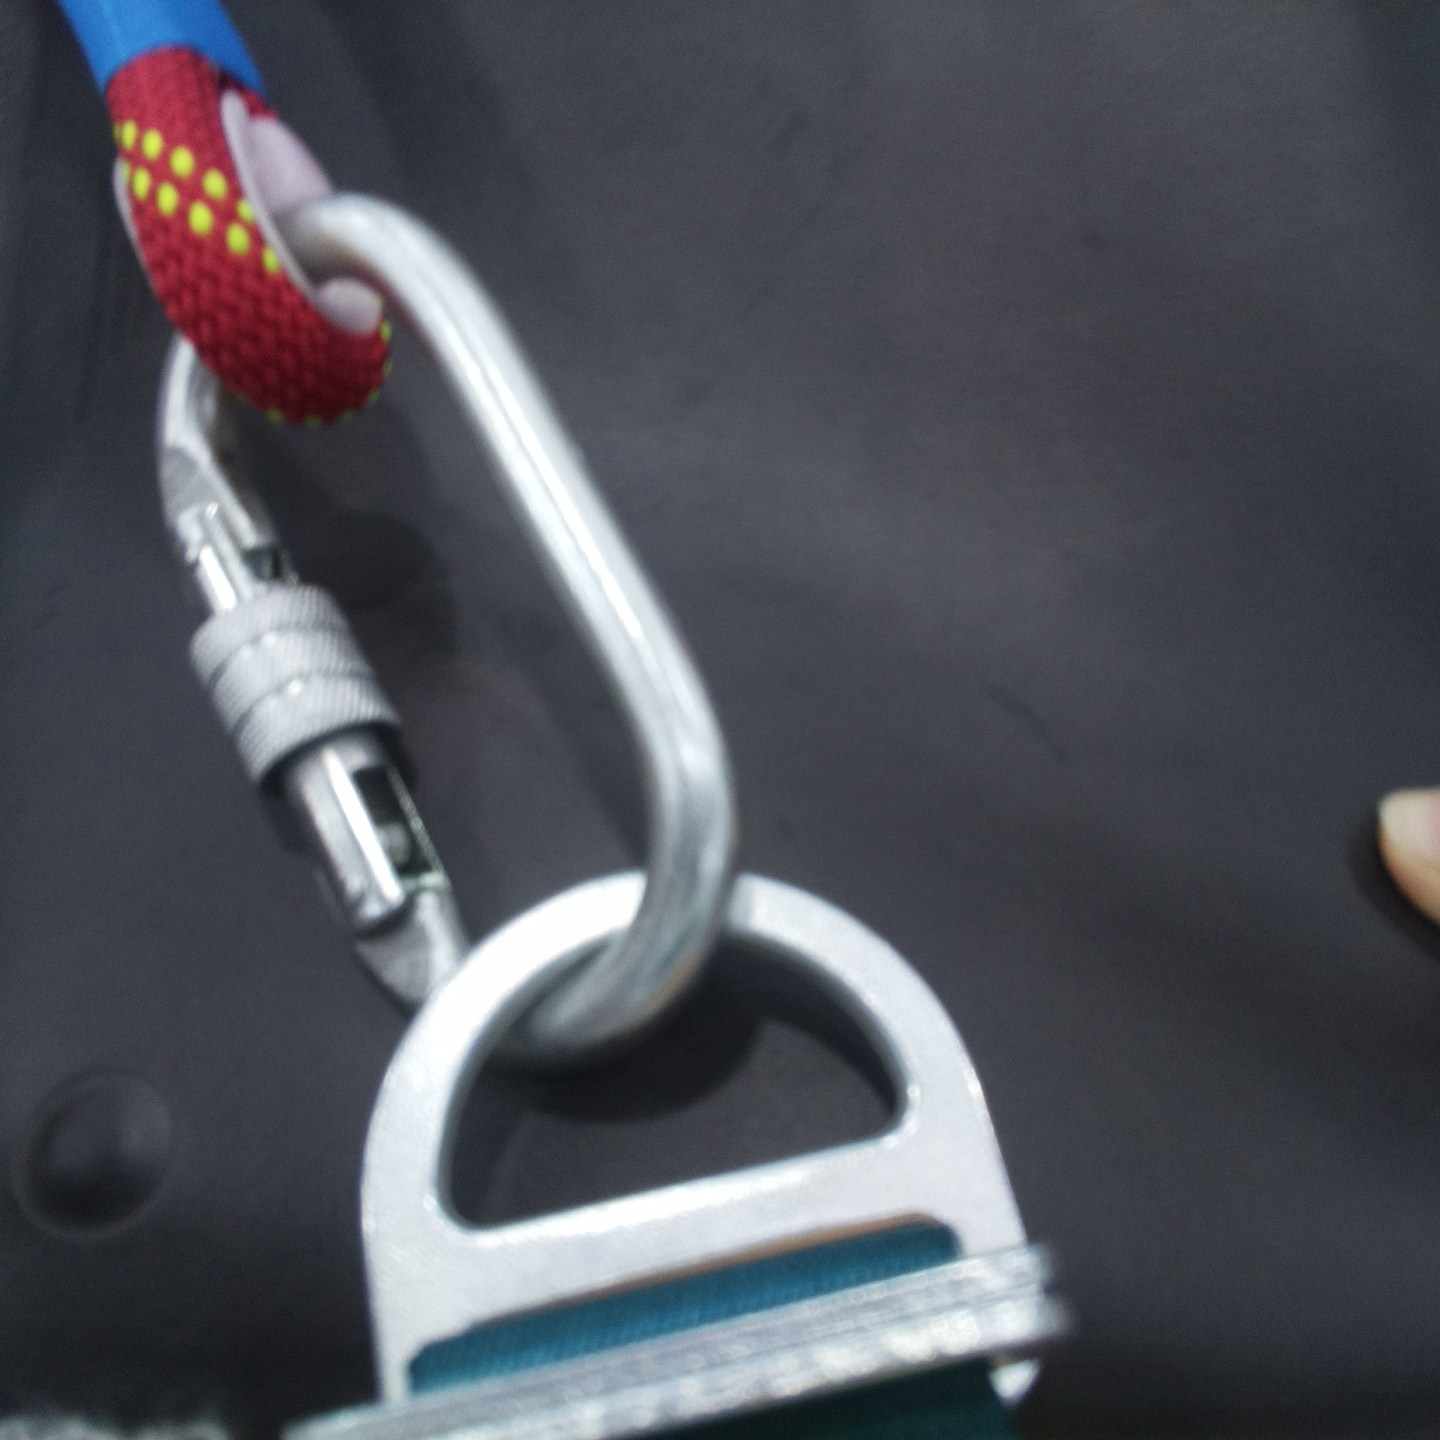SUCCESS: (121, 547, 1069, 1357)
